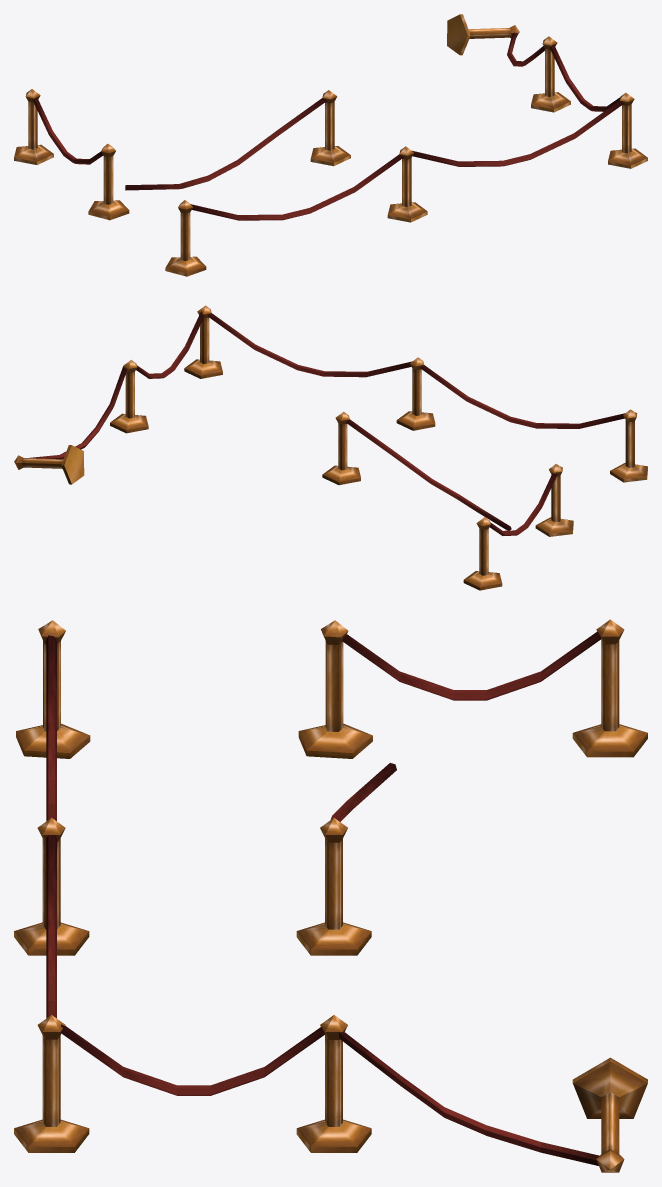
File: redrope.fbx
3 renders of one model, top to bottom at view 1: azimuth 30°, elevation 25°; view 2: azimuth 150°, elevation 25°; view 3: azimuth 270°, elevation 25°, orthographic. The views are drawn at different scales.
Parts seen in each view (by area): view 1: Cylinder; view 2: Cylinder; view 3: Cylinder.
Part boxes in pixels (bbox=[...]): Cylinder: bbox=[14, 14, 647, 276]; Cylinder: bbox=[14, 305, 647, 590]; Cylinder: bbox=[14, 619, 647, 1172].
Bounding box in the file's own units: 1122 × 143 × 664.
